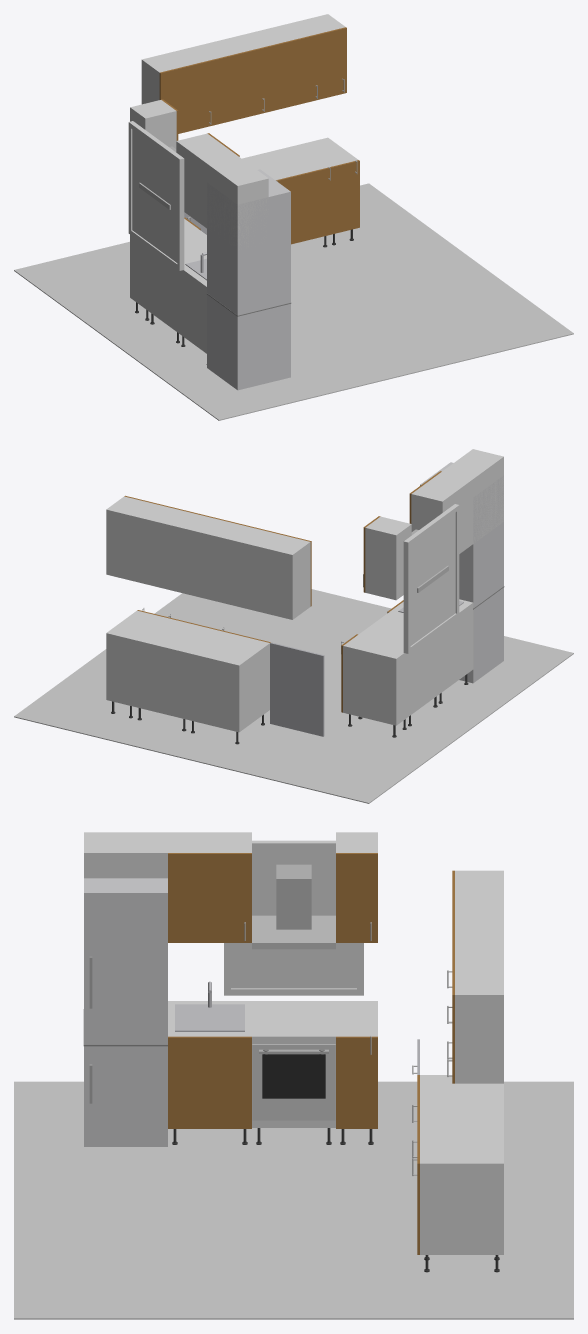
File: hybrid_l_shape_fixed.glb
3 renders of one model, top to bottom at view 1: azimuth 30°, elevation 25°; view 2: azimuth 150°, elevation 25°; view 3: azimuth 270°, elevation 25°, orthographic. The views are drawn at different scales.
Parts seen in each view (by area): view 1: world; view 2: world; view 3: world.
Boxes of the visible parts, x1=… form: world: x1=14, y1=14, x2=573, y2=420; world: x1=14, y1=449, x2=573, y2=803; world: x1=14, y1=832, x2=573, y2=1319.
Bounding box in the file's own units: 400 × 221 × 400.
